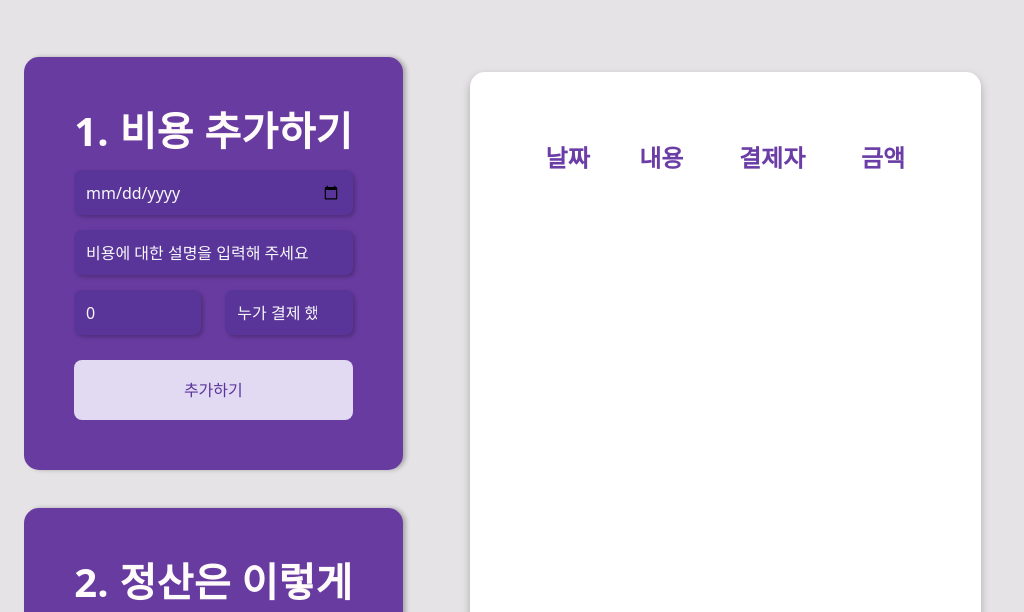
Scenario: 비용 정산 메인 페이지 › 새로운 비용이 입력되었을 때, › 정산 결과 또한 업데이트가 된다.
The image size is (1024, 612).
Type "2023-05-07" into the date field with placeholder "결제한 날짜를 선택해 주세요". click: (213, 193)
box: x1=74 y1=170 x2=353 y2=215
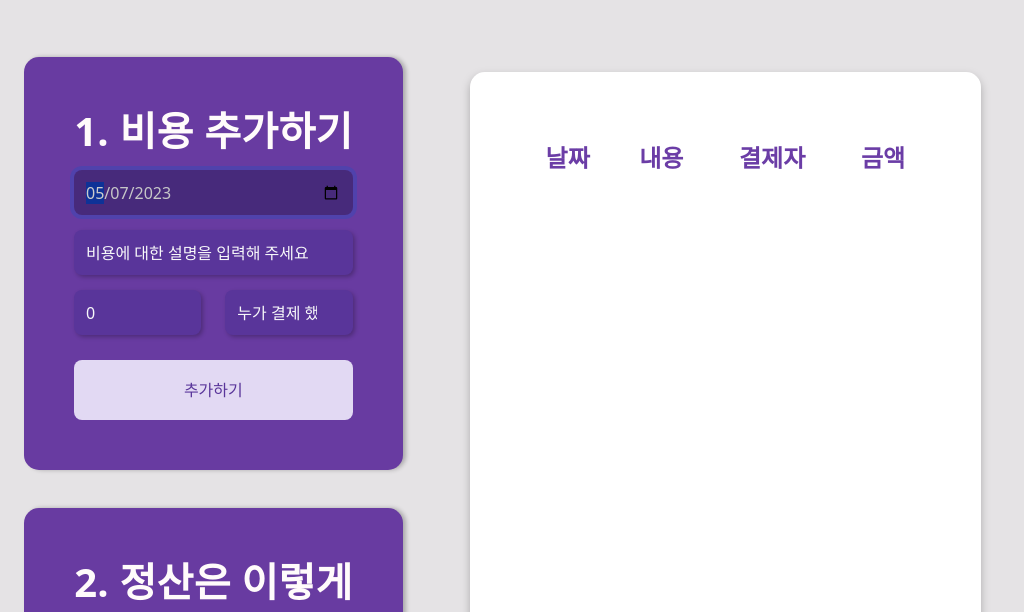
Type "장보기" into the field with placeholder "비용에 대한 설명을 입력해 주세요". click: (213, 253)
box: x1=74 y1=230 x2=353 y2=275
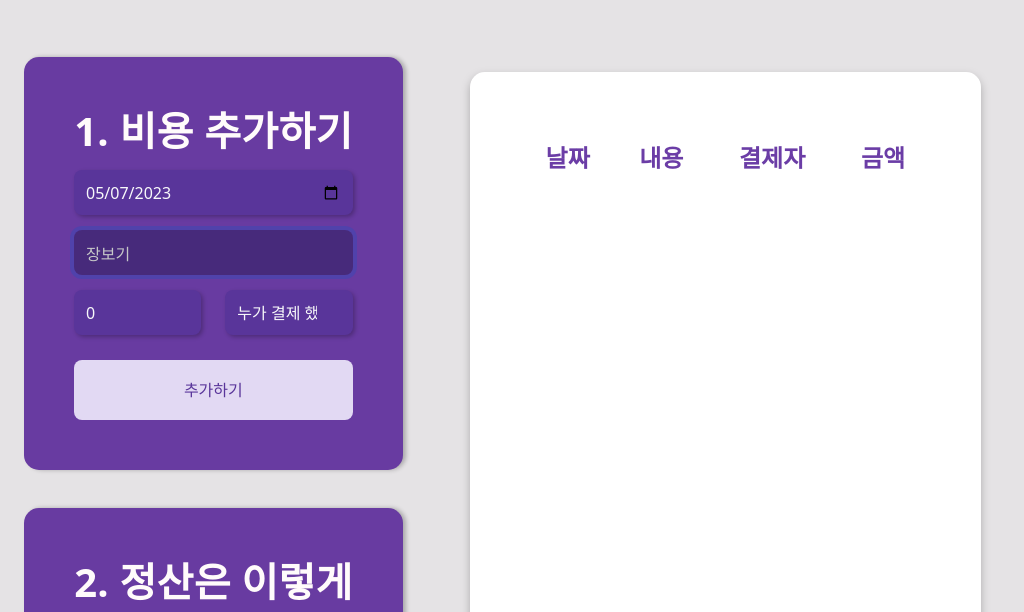
Type "30000" into the number field with placeholder "비용은 얼마였나요?". click: (138, 313)
box: x1=74 y1=290 x2=201 y2=335
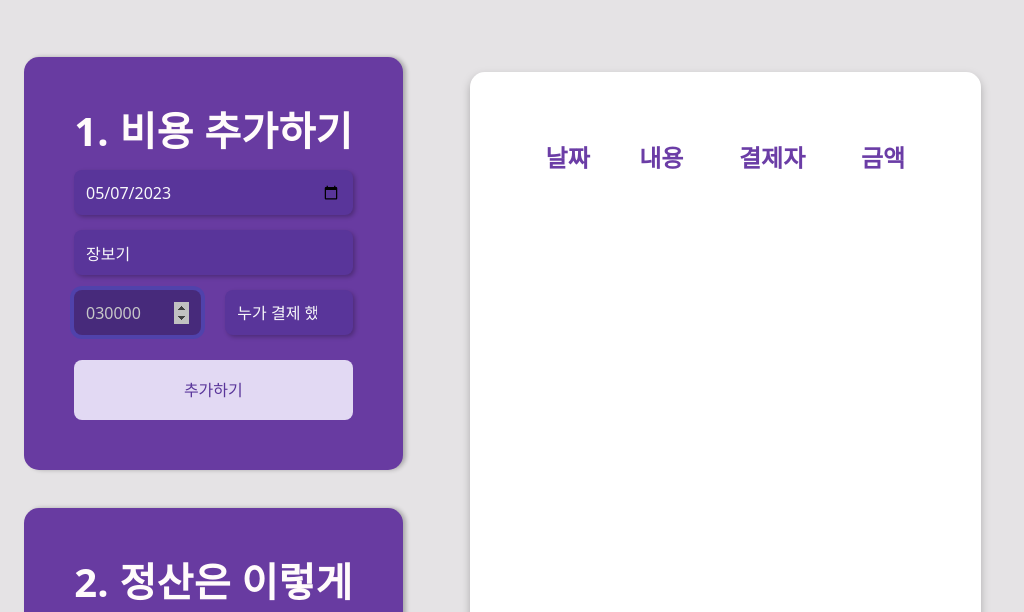
Select "영수" in the dropdown showing "누가 결제". click: (289, 313)
box: x1=225 y1=290 x2=353 y2=335
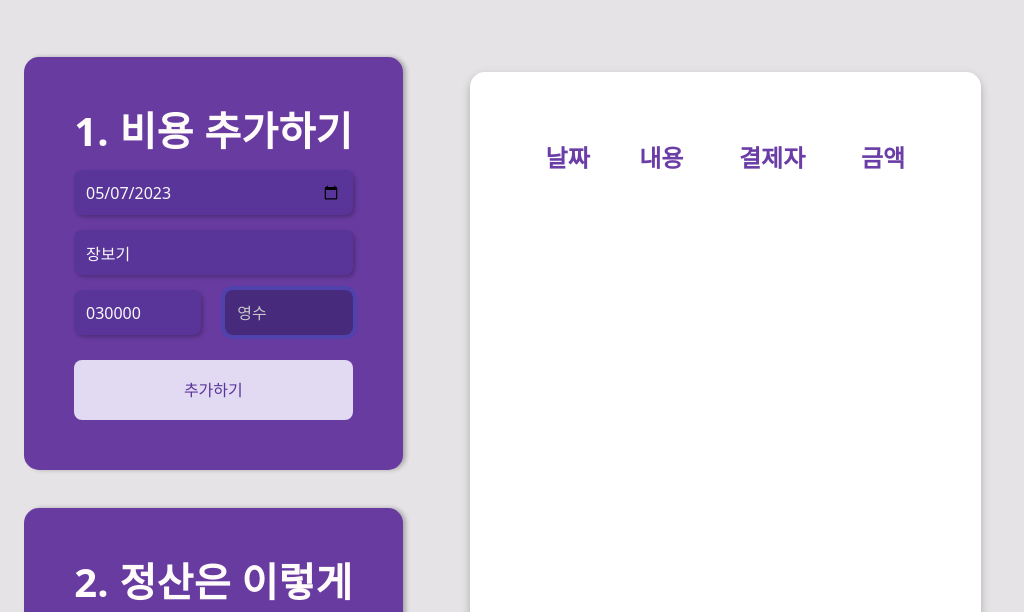
Click the button "추가하기". click: click(213, 390)
box: x1=74 y1=360 x2=353 y2=420
(page scrolled)
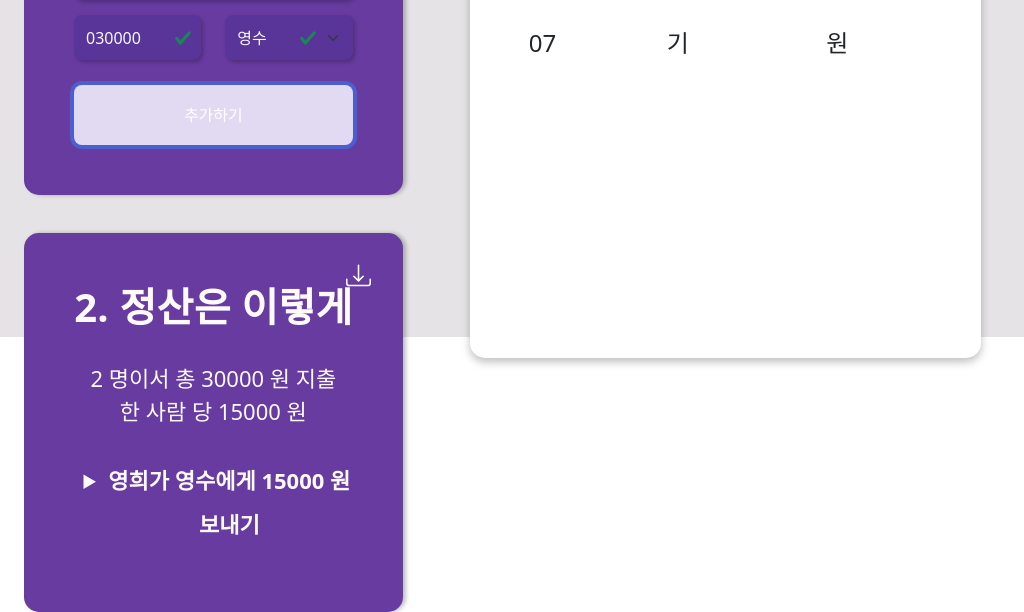
Expected: the text "2 명이서 총 30000 원 지출" is shown, x1=90 y1=364 x2=336 y2=394
Expected: the text "영희가 영수에게 15000 원 보내기" is shown, x1=108 y1=466 x2=350 y2=540
